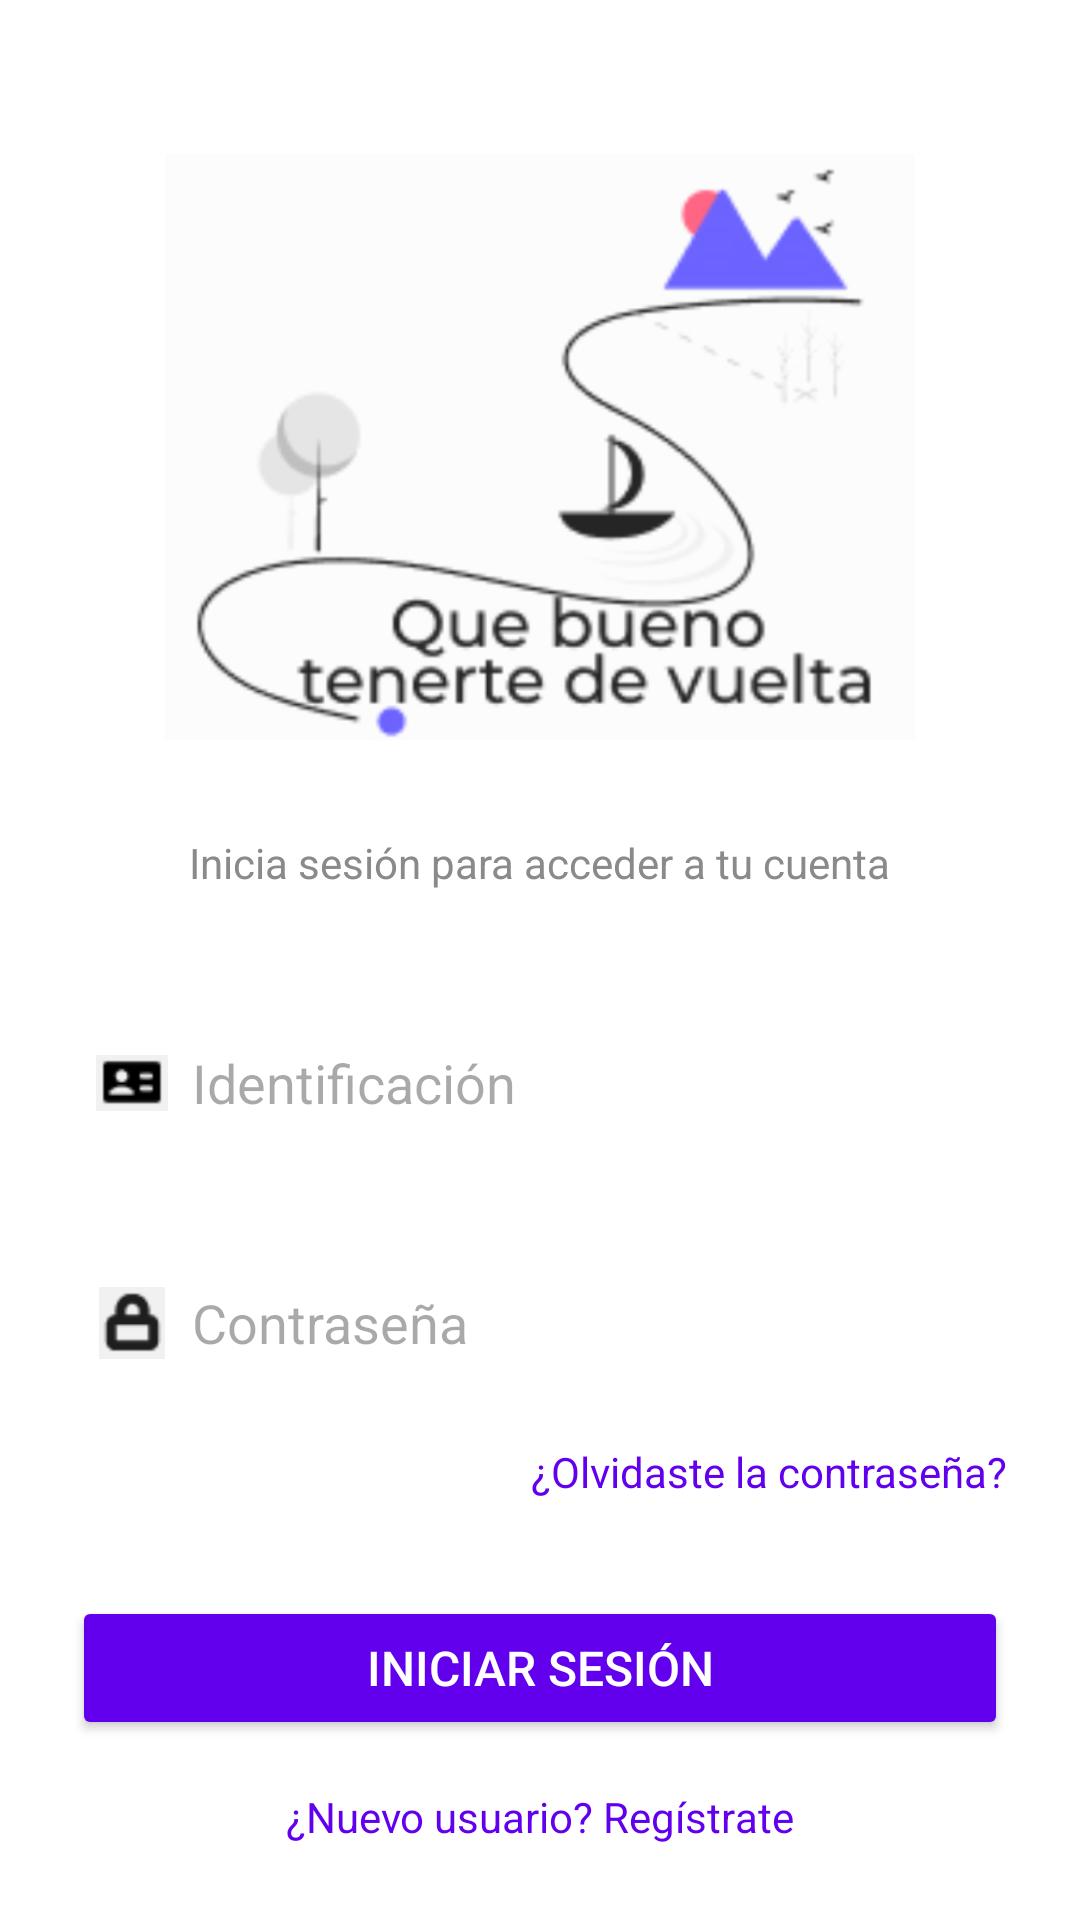

Screen size 1080x1920. Icon name, then its box in pixels as box(x1, y1, x2, y2):
password: box(103, 1292, 161, 1352)
user: box(102, 1060, 162, 1104)
